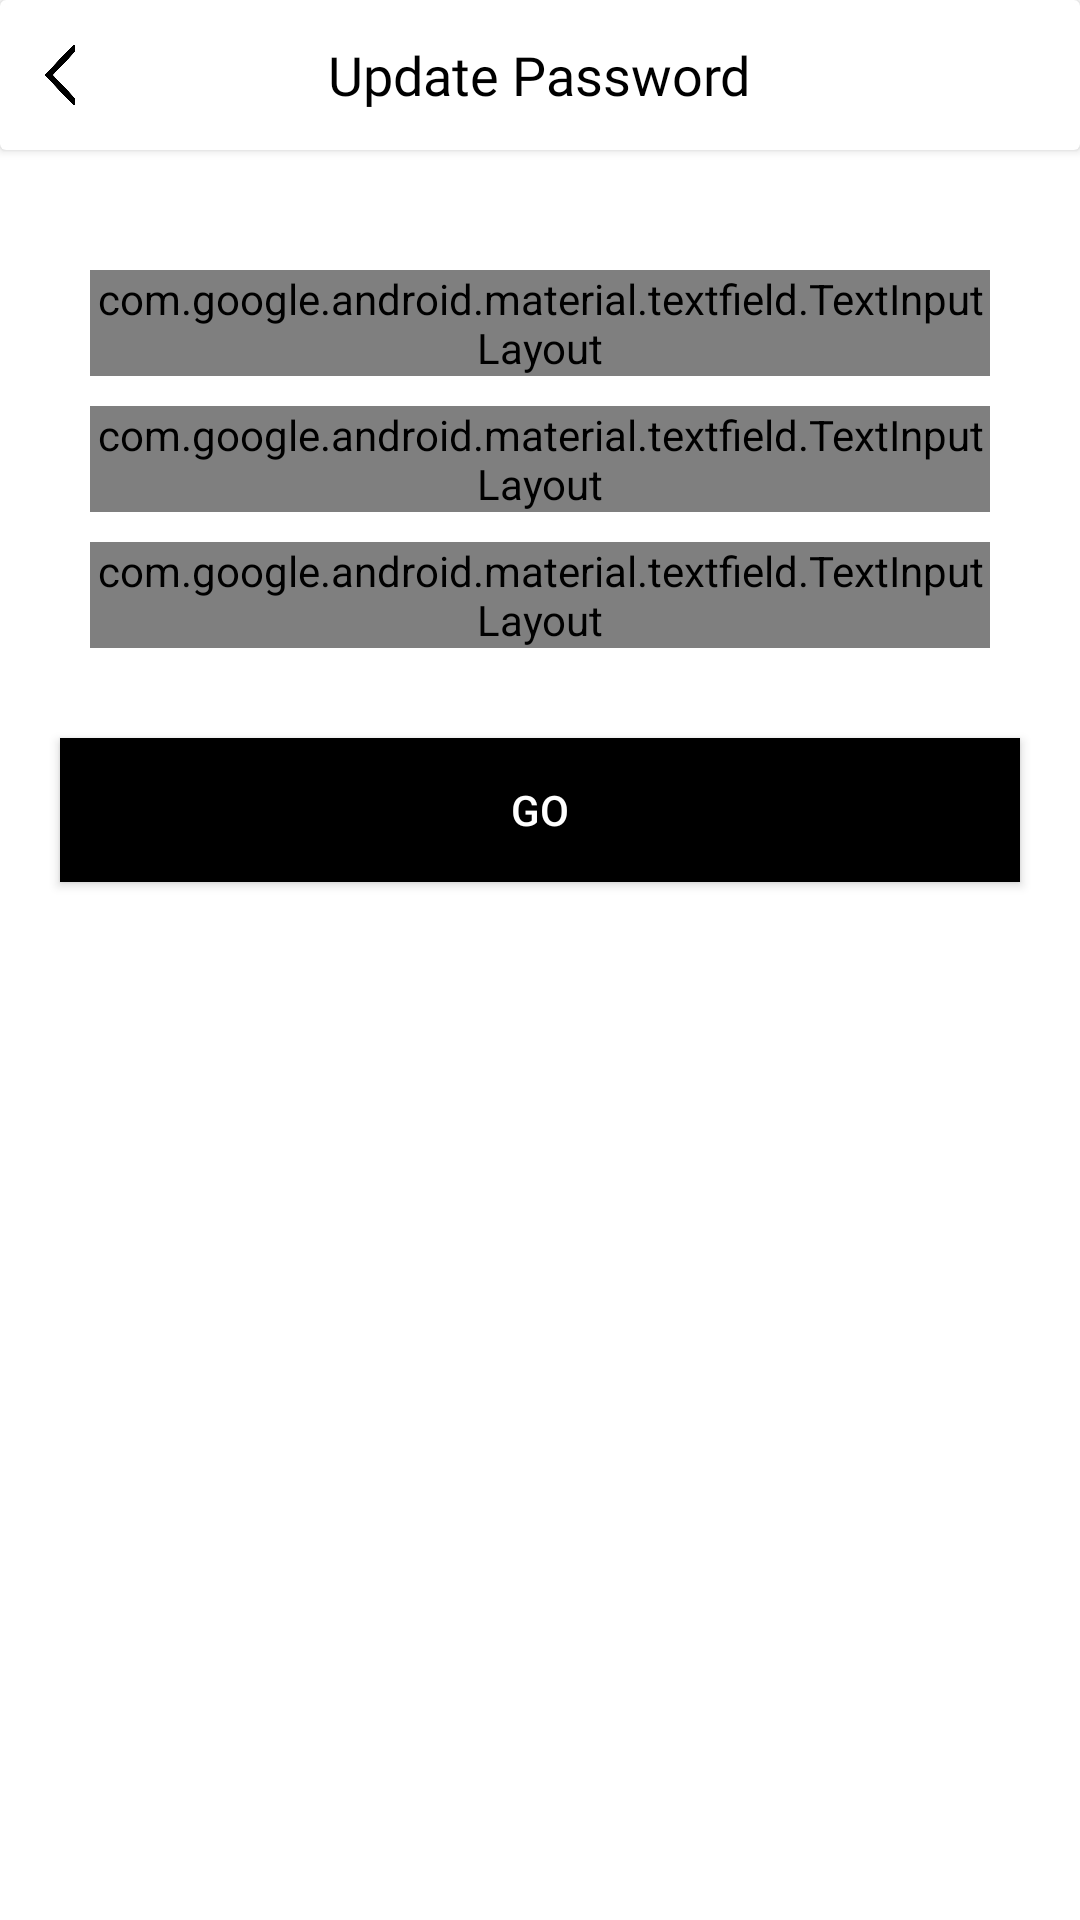

Screen size 1080px×1920px. Icon name, then its center in pixels as [x,y]:
left: [60,75]
